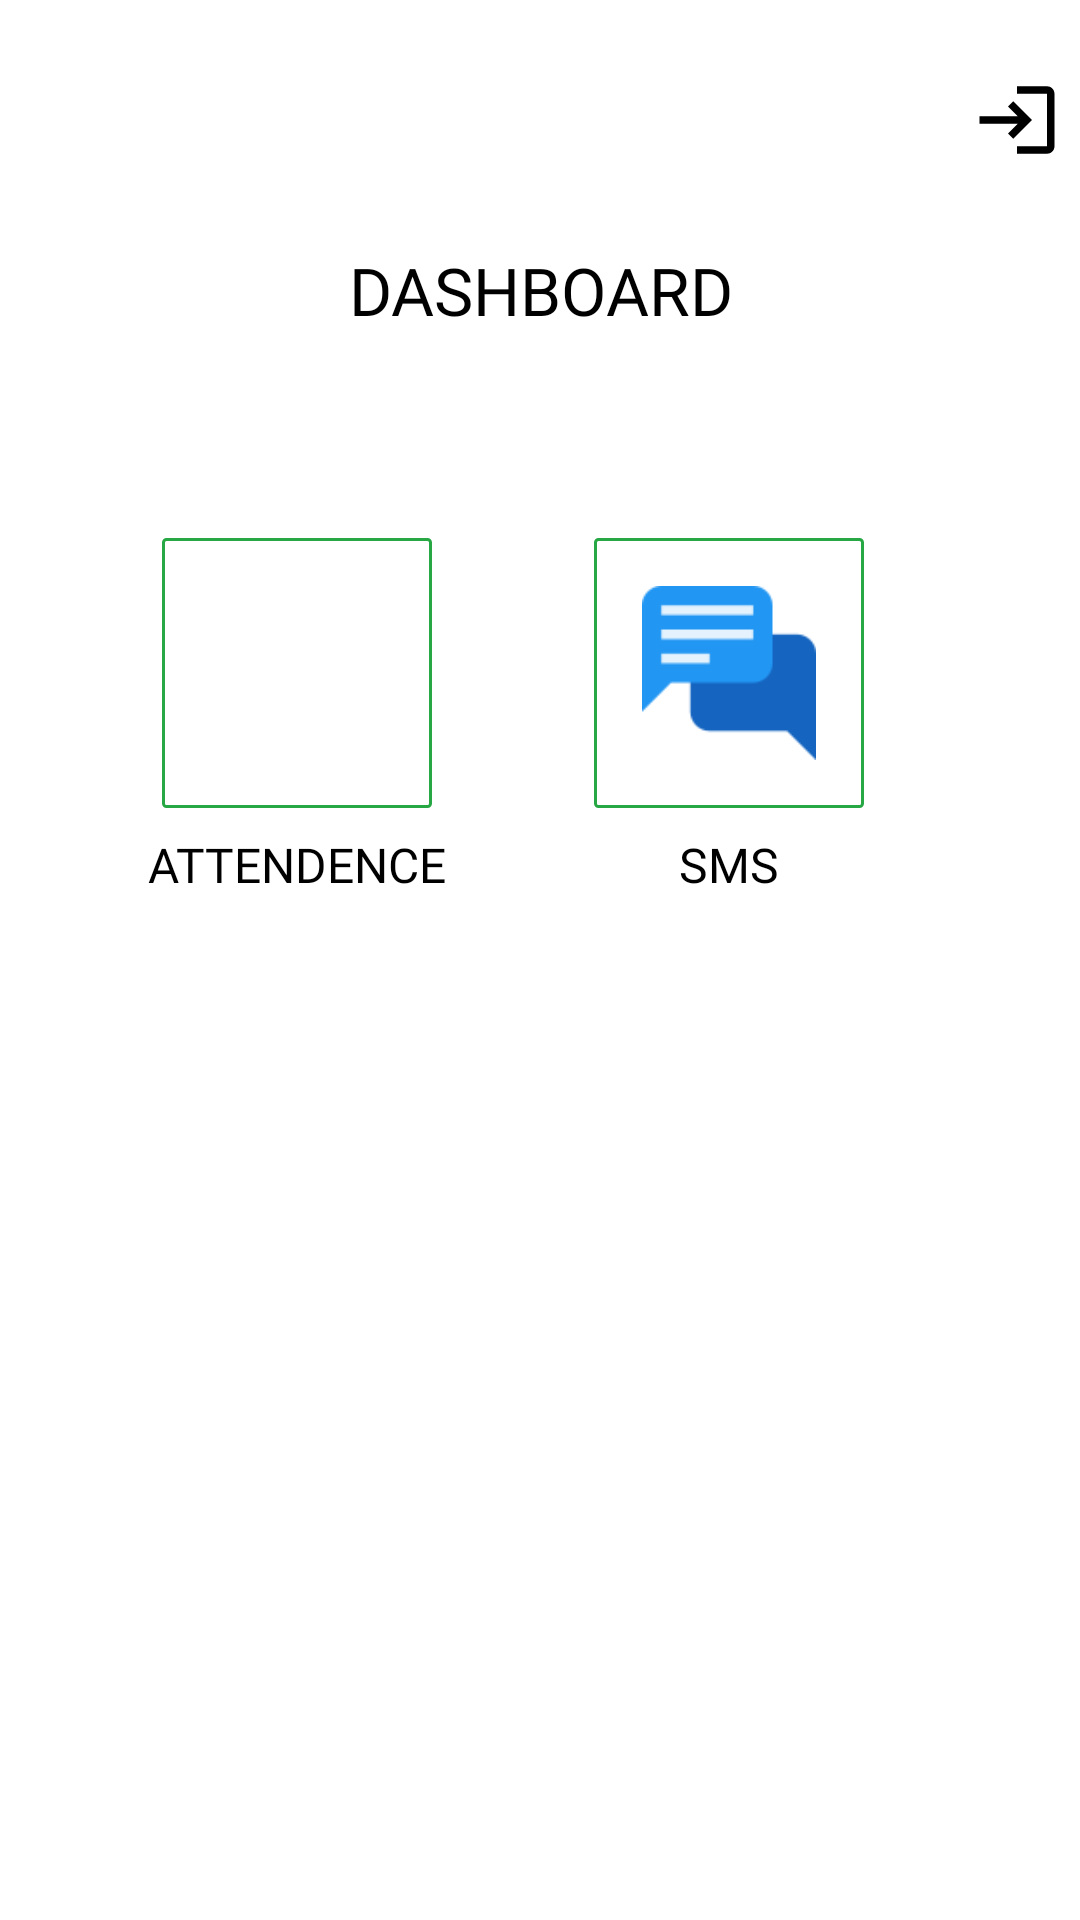

Screen size 1080 × 1920. Icon name, then its center in pixels as point (x, y):
login: point (1017, 120)
